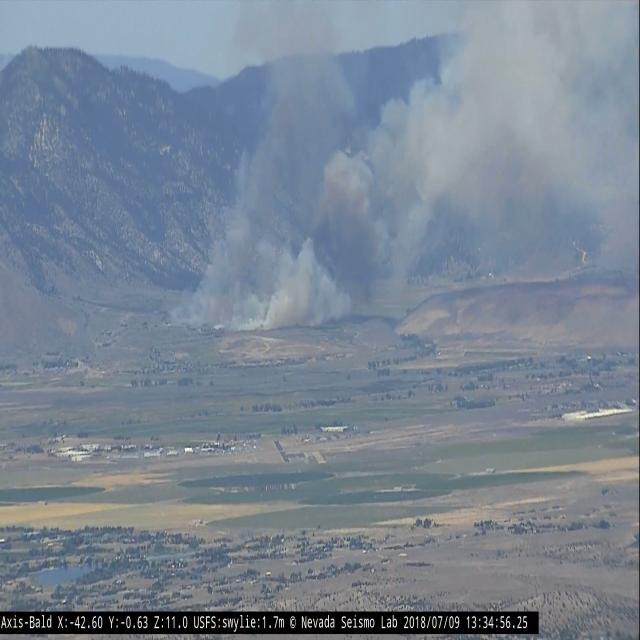smoke: (168, 0, 639, 335)
